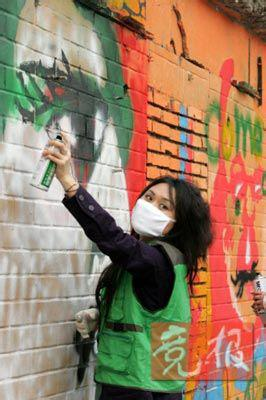OK: (133, 186, 186, 239)
